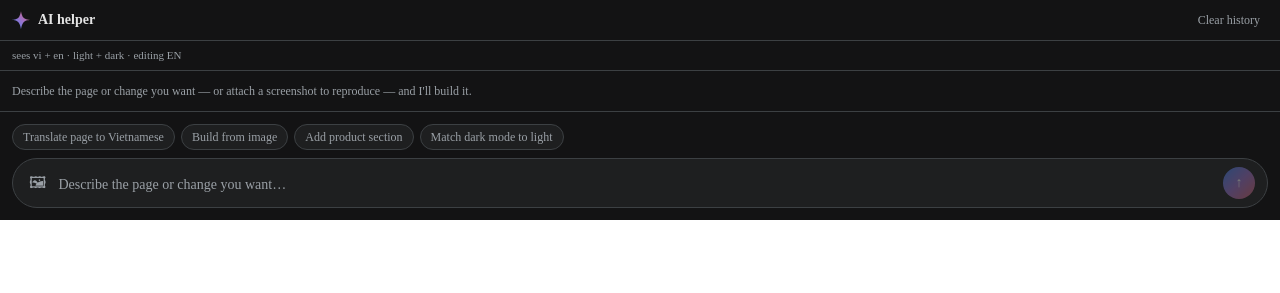
Test case: AssistantPanel › should render a streamed error as an assistant message
Type "do a thing" into the text box with placeholder "Describe the page or change you want…" at x=637, y=186, box [58, 174, 1215, 198]
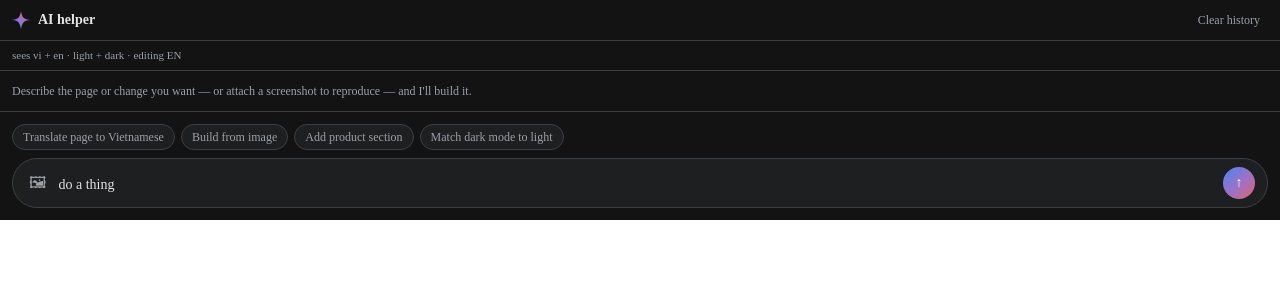
Click the button named "send" at x=1239, y=182, box [1223, 166, 1255, 198]
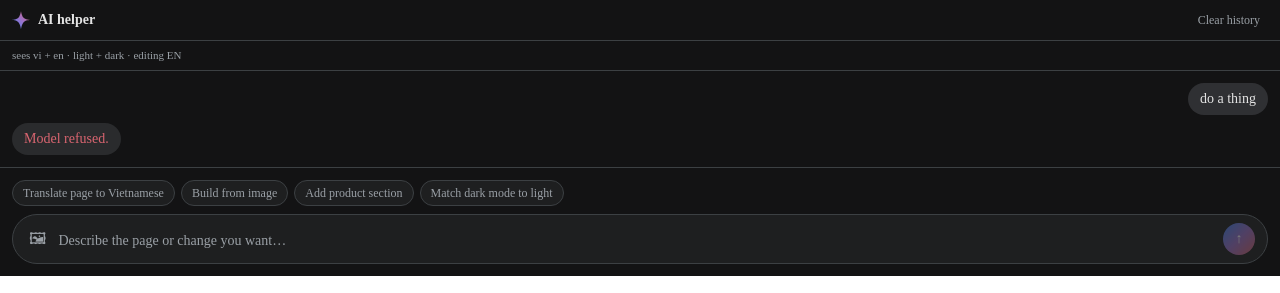
Now the text "Model refused." is shown, box [24, 130, 109, 146]
